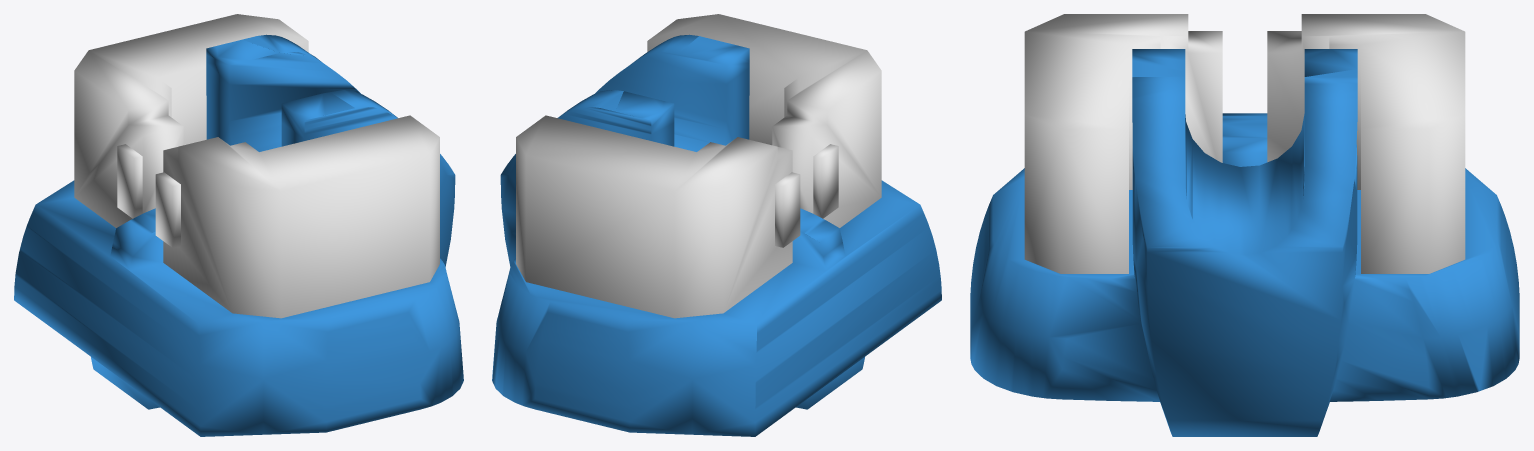
Rendered from WAIST_LINK.dae.
3 renders of one model, left to right at view 1: azimuth 30°, elevation 25°; view 2: azimuth 150°, elevation 25°; view 3: azimuth 270°, elevation 25°, orthographic. The views are drawn at different scales.
Visible parts, largest first — view 1: ShapeIndexedFaceS_133, ShapeIndexedFaceS_146, ShapeIndexedFaceS_145, ShapeIndexedFaceS_135; view 2: ShapeIndexedFaceS_133, ShapeIndexedFaceS_146, ShapeIndexedFaceS_135, ShapeIndexedFaceS_145; view 3: ShapeIndexedFaceS_133, ShapeIndexedFaceS_146.
Boxes of the visible parts, x1=… form: ShapeIndexedFaceS_133: x1=14, y1=34, x2=463, y2=436; ShapeIndexedFaceS_146: x1=74, y1=14, x2=439, y2=318; ShapeIndexedFaceS_145: x1=155, y1=172, x2=180, y2=247; ShapeIndexedFaceS_135: x1=117, y1=144, x2=142, y2=218; ShapeIndexedFaceS_133: x1=492, y1=34, x2=941, y2=436; ShapeIndexedFaceS_146: x1=516, y1=14, x2=881, y2=318; ShapeIndexedFaceS_135: x1=775, y1=172, x2=800, y2=247; ShapeIndexedFaceS_145: x1=813, y1=144, x2=838, y2=218; ShapeIndexedFaceS_133: x1=970, y1=49, x2=1519, y2=436; ShapeIndexedFaceS_146: x1=1024, y1=14, x2=1465, y2=273.
Size of the model in its own units: 0.2162 by 0.295 by 0.188.
